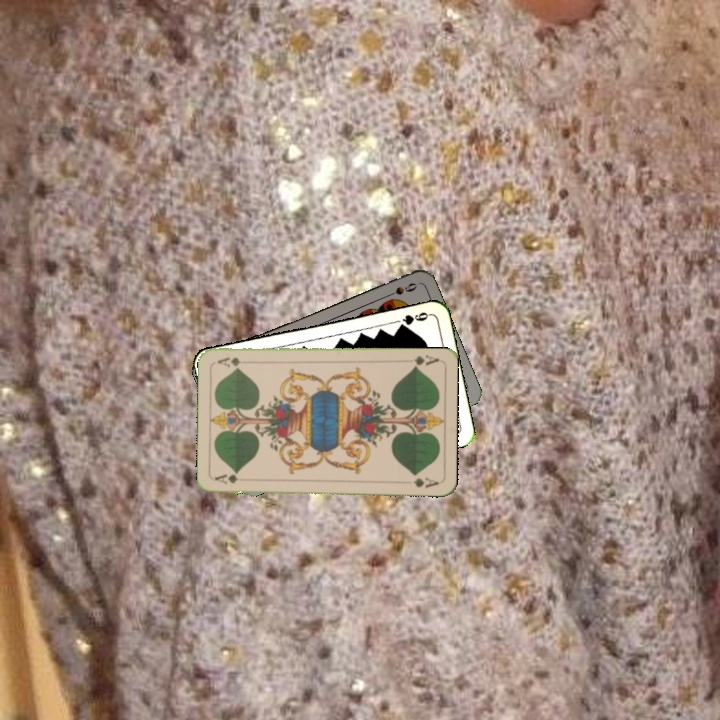G9: (394, 308, 433, 331)
GA: (211, 470, 252, 486), (409, 351, 441, 371)
S9: (380, 279, 420, 301)
